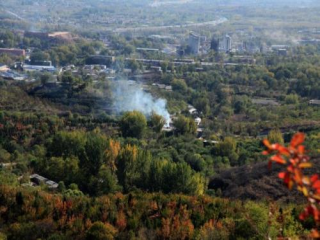smoke: (102, 79, 181, 131)
